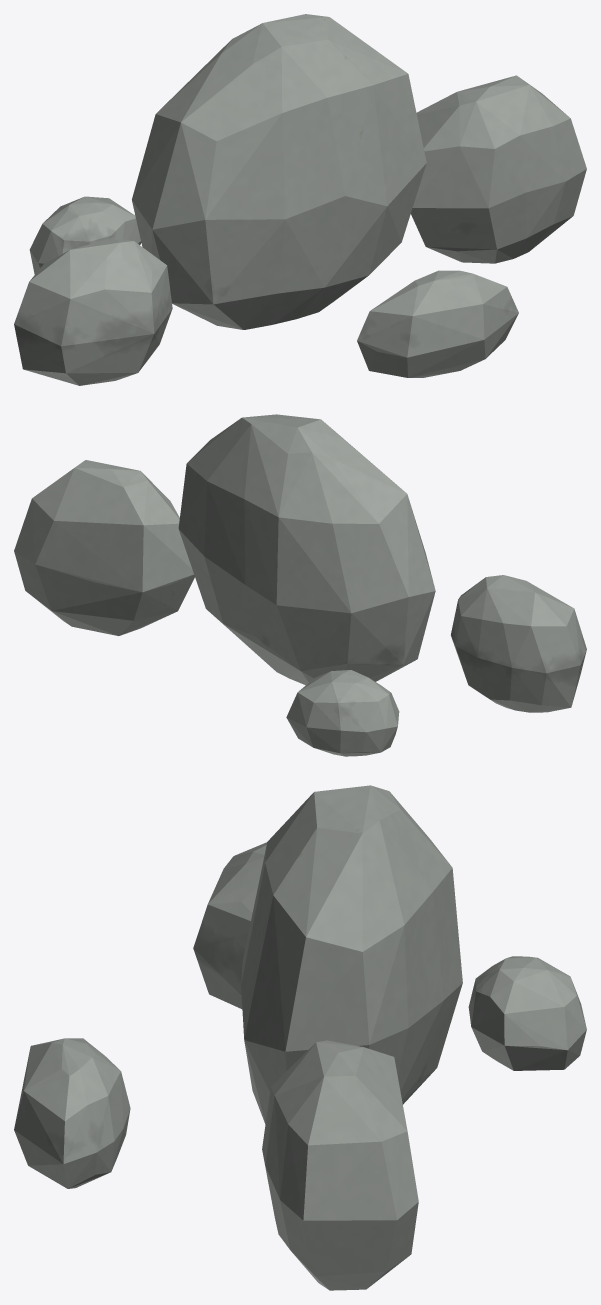
File: river_riverbank_rock_large.glb
3 renders of one model, top to bottom at view 1: azimuth 30°, elevation 25°; view 2: azimuth 150°, elevation 25°; view 3: azimuth 270°, elevation 25°, orthographic. The views are drawn at different scales.
Visible parts, largest first — view 1: RiverbankRockLarge; view 2: RiverbankRockLarge; view 3: RiverbankRockLarge.
Boxes of the visible parts, <box> form: RiverbankRockLarge: <box>14,14,586,385</box>; RiverbankRockLarge: <box>14,414,586,756</box>; RiverbankRockLarge: <box>14,785,586,1290</box>.
Size of what is drawn, in the model's own units: 2.2 by 1 by 1.5.
Materials: 1 (1 with a texture image).
